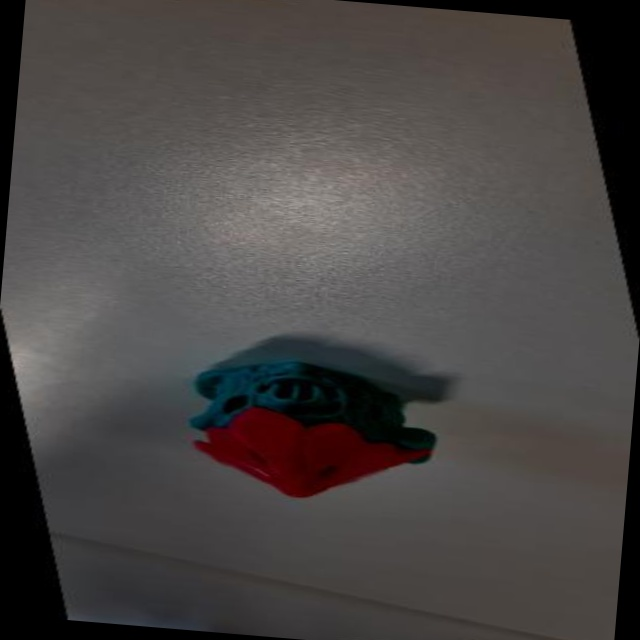House: (146, 308, 519, 531)
